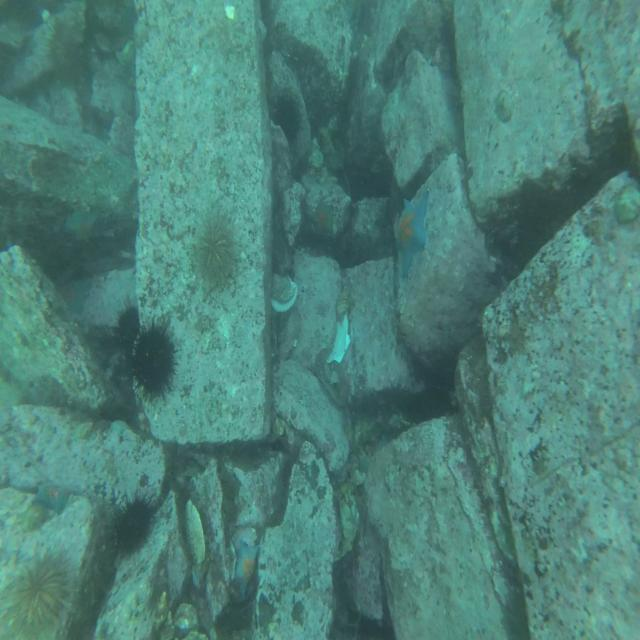echinus: (5, 542, 71, 638), (129, 320, 177, 399), (197, 212, 240, 288), (105, 499, 151, 555), (272, 95, 302, 148), (116, 308, 140, 349)
scallop: (183, 500, 205, 573), (270, 272, 300, 318), (330, 312, 352, 369)
starfish: (396, 200, 430, 274), (235, 539, 259, 598)
